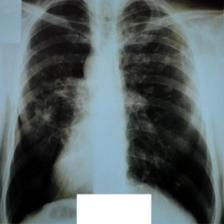tuberculosis: (2, 1, 221, 224)
